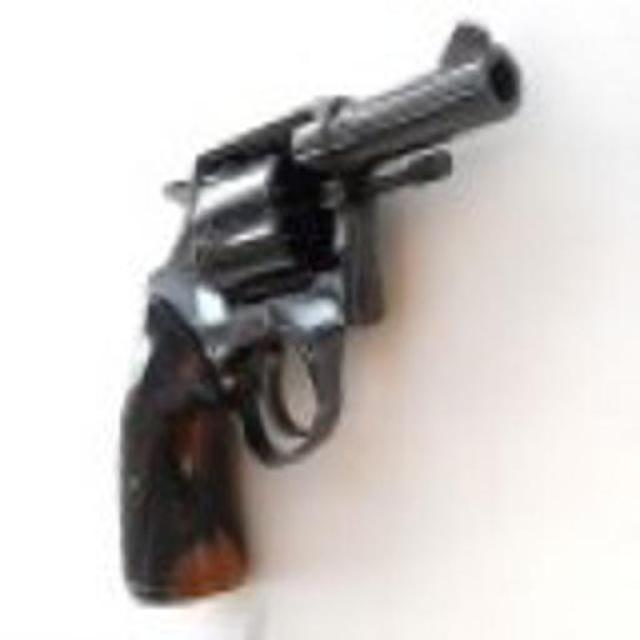pistol: (104, 15, 520, 602)
